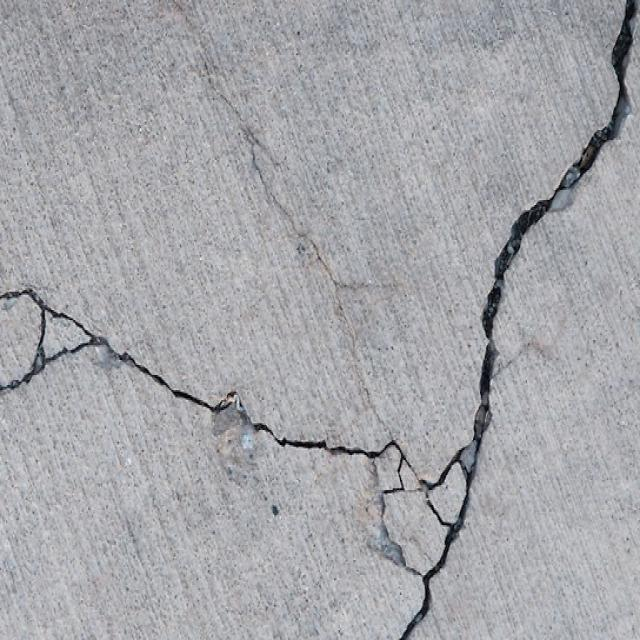crack: (396, 7, 639, 637), (1, 283, 396, 564), (173, 1, 336, 282)
